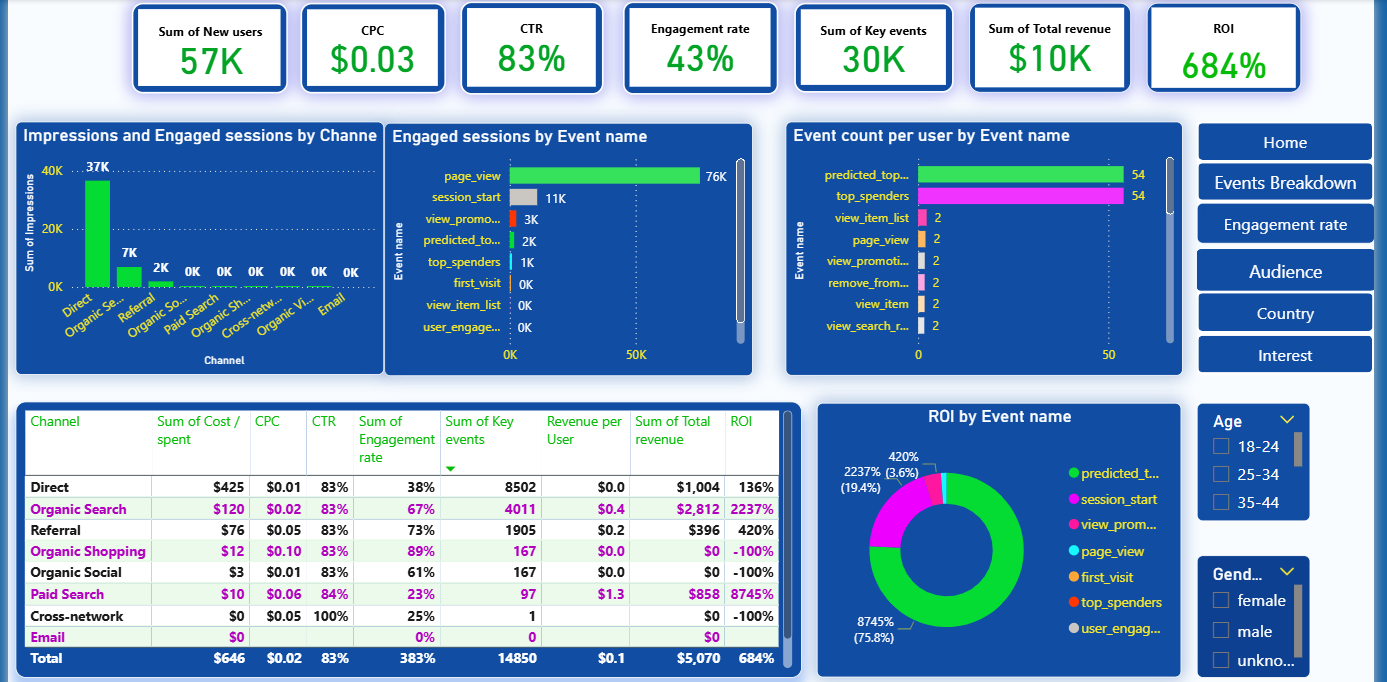

The dashboard page shown, as its layout file describes it:
{"tool":"powerbi","page":{"name":"Events Dashboard","canvas":[1337,730],"ordinal":2},"visuals":[{"type":"actionButton","box":[1162.9,159.4,174.3,39.8],"z":0},{"type":"actionButton","box":[1162.9,199.2,174.3,39.8],"z":1000},{"type":"actionButton","box":[1162.9,244,174.3,41.1],"z":2000},{"type":"actionButton","box":[1163,328,174,40],"z":3000},{"type":"slicer","fields":{"Values":["Table 7 (Demographic details Age).Age"]},"box":[1163.3,395.1,111.3,116.2],"z":4000},{"type":"slicer","fields":{"Values":["Table 9 (Demographic details Gender).Gender"]},"box":[1163.3,544.3,111.3,119.9],"z":5000},{"type":"cardVisual","fields":{"Data":["Sum(Table 1 (User acquisition).New users)"]},"box":[121,4,153,89],"z":6000},{"type":"cardVisual","fields":{"Data":["Table 1 (User acquisition).CPC"]},"box":[286,4,142,89],"z":7000},{"type":"cardVisual","fields":{"Data":["Table 1 (User acquisition).CTR"]},"box":[443,3,140,91],"z":8000},{"type":"cardVisual","fields":{"Data":["Avg(Table 1 (User acquisition).Engagement rate)"]},"box":[602,2,152,91],"z":9000},{"type":"cardVisual","fields":{"Data":["Sum(Table 1 (User acquisition).Key events)"]},"box":[769,4,156,88],"z":10000},{"type":"cardVisual","fields":{"Data":["Sum(Table 1 (User acquisition).Total revenue)"]},"box":[941,4,158,88],"z":11000},{"type":"cardVisual","fields":{"Data":["Table 1 (User acquisition).ROI"]},"box":[1114,4,151,88],"z":12000},{"type":"barChart","title":"Engaged sessions by Event name","fields":{"Category":["Table 3 (Events).Event name"],"Series":["Table 2 (Traffic acquisition).Engaged sessions"],"Y":["Sum(Table 2 (Traffic acquisition).Sessions)"]},"box":[368.2,121.1,360.8,248.3],"z":13000},{"type":"barChart","title":"Event count per user by Event name","fields":{"Category":["Table 3 (Events).Event name"],"Y":["Avg(Table 3 (Events).Event count per user)"]},"box":[760.8,119.5,388.5,249],"z":14000},{"type":"donutChart","fields":{"Category":["Table 3 (Events).Event name"],"Y":["Table 1 (User acquisition).ROI"]},"box":[792,395,357,269],"z":15000},{"type":"columnChart","title":"Impressions and Engaged sessions by Channe","fields":{"Y":["Sum(Table 1 (User acquisition).Impressions)"],"Category":["Table 1 (User acquisition).Channel"]},"box":[7.5,119.5,361.1,247.8],"z":16000},{"type":"actionButton","title":"Home","box":[1163,120,174,40],"z":17000},{"type":"tableEx","fields":{"Values":["Table 1 (User acquisition).Channel","Sum(Table 1 (User acquisition).Cost / spent)","Table 1 (User acquisition).CPC","Table 1 (User acquisition).CTR","Sum(Table 1 (User acquisition).Engagement rate)","Sum(Table 1 (User acquisition).Key events)","Table 1 (User acquisition).Revenue per User","Sum(Table 1 (User acquisition).Total revenue)","Table 1 (User acquisition).ROI"]},"box":[7.5,393.5,769.5,270.2],"z":18000},{"type":"actionButton","box":[1162.9,286.4,174.3,41.1],"z":19000}]}

Visuals, with their boxes on the page's 1337x730 design canvas (x1, y1, x2, y2). These are canvas units, not pixel positions in the 1387x682 screenshot, which may show the page scaled, cropped or inside an application window:
actionButton: rect(1163, 159, 1337, 199)
actionButton: rect(1163, 199, 1337, 239)
actionButton: rect(1163, 244, 1337, 285)
actionButton: rect(1163, 328, 1337, 368)
slicer - Table 7 (Demographic details Age).Age: rect(1163, 395, 1275, 511)
slicer - Table 9 (Demographic details Gender).Gender: rect(1163, 544, 1275, 664)
cardVisual - Sum(Table 1 (User acquisition).New users): rect(121, 4, 274, 93)
cardVisual - Table 1 (User acquisition).CPC: rect(286, 4, 428, 93)
cardVisual - Table 1 (User acquisition).CTR: rect(443, 3, 583, 94)
cardVisual - Avg(Table 1 (User acquisition).Engagement rate): rect(602, 2, 754, 93)
cardVisual - Sum(Table 1 (User acquisition).Key events): rect(769, 4, 925, 92)
cardVisual - Sum(Table 1 (User acquisition).Total revenue): rect(941, 4, 1099, 92)
cardVisual - Table 1 (User acquisition).ROI: rect(1114, 4, 1265, 92)
"Engaged sessions by Event name" barChart: rect(368, 121, 729, 369)
"Event count per user by Event name" barChart: rect(761, 120, 1149, 368)
donutChart - Table 3 (Events).Event name x Table 1 (User acquisition).ROI: rect(792, 395, 1149, 664)
"Impressions and Engaged sessions by Channe" columnChart: rect(8, 120, 369, 367)
"Home" actionButton: rect(1163, 120, 1337, 160)
tableEx - Table 1 (User acquisition).Channel x Sum(Table 1 (User acquisition).Cost / spent): rect(8, 394, 777, 664)
actionButton: rect(1163, 286, 1337, 328)
